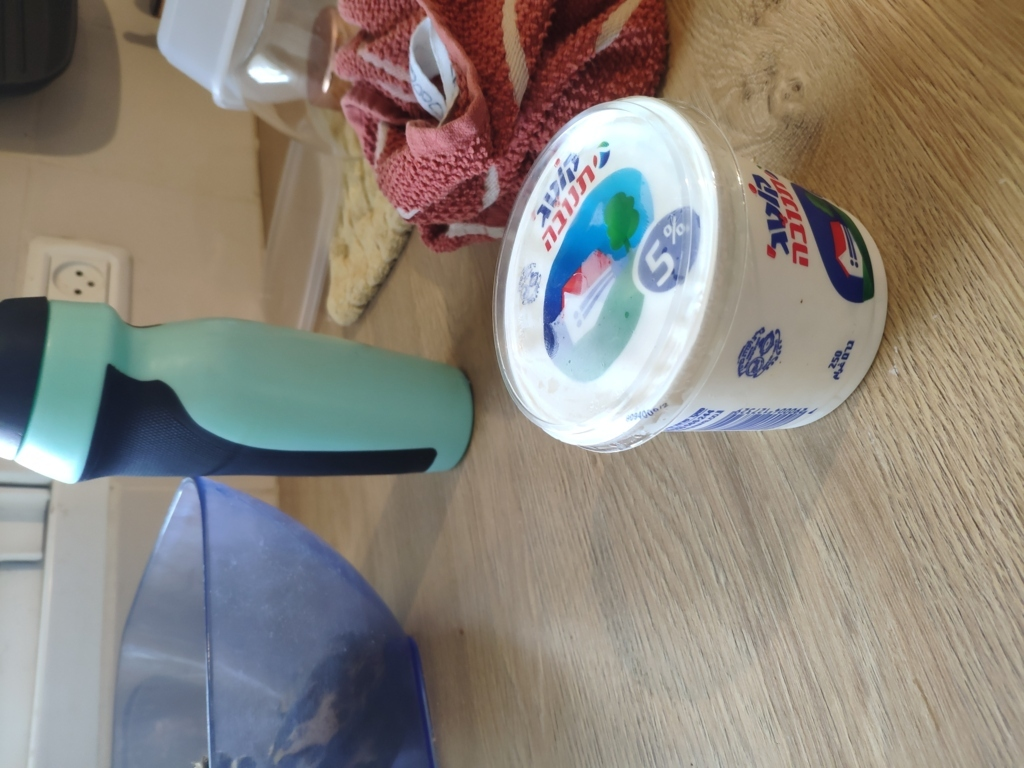Cotage: (466, 152, 904, 465)
